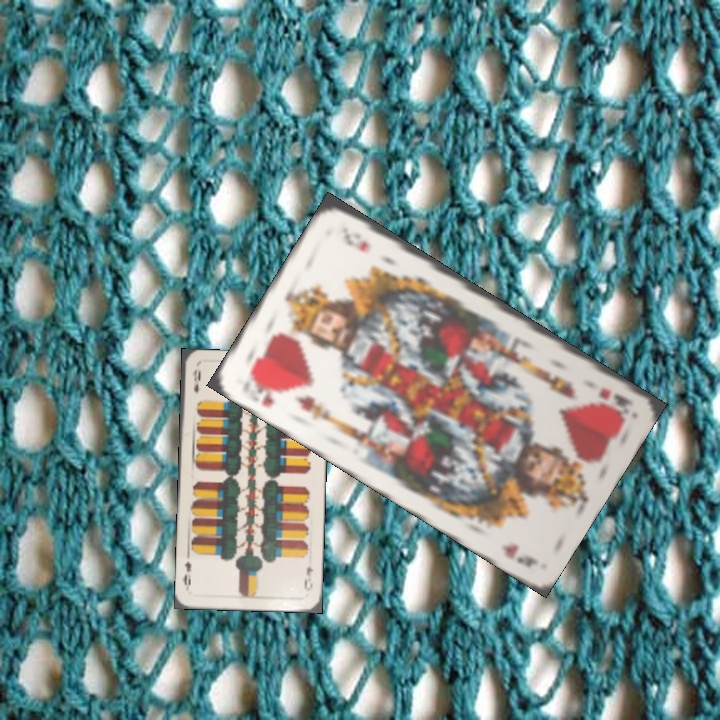E9: (300, 562, 315, 593), (188, 366, 203, 395)
HK: (244, 370, 285, 410), (593, 384, 636, 410)
